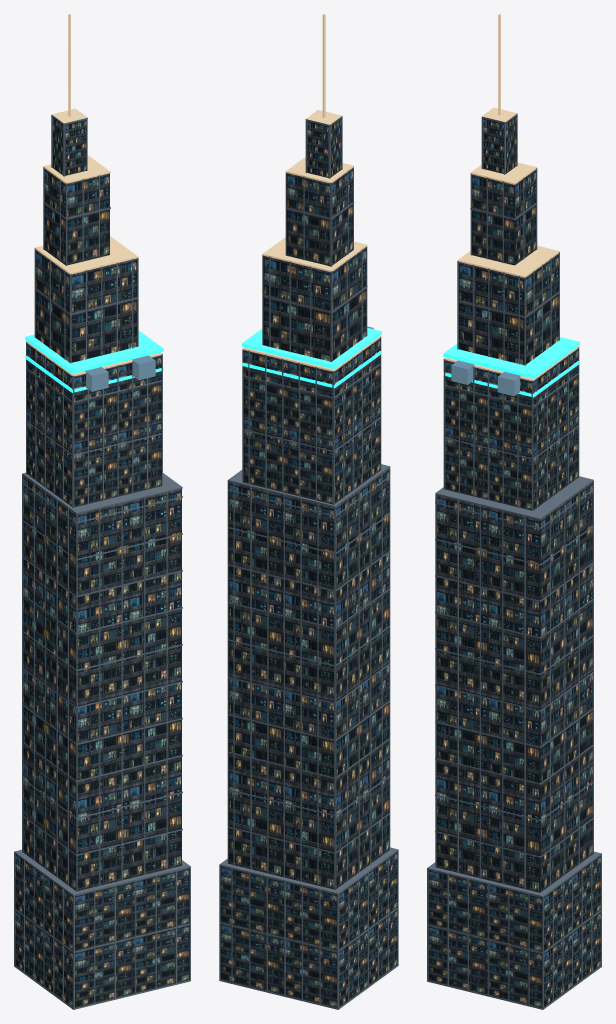
File: one-vanderbilt.glb
The picture shows the model from 3 angles, left to right: view 1: azimuth 30°, elevation 25°; view 2: azimuth 150°, elevation 25°; view 3: azimuth 330°, elevation 25°; orthographic projection. The views are drawn at different scales.
Parts seen in each view (by area): view 1: Facade_atlas_2, Brushed aluminum, Champagne crown light, Cyan architectural light, Cool occupied interiors; view 2: Facade_atlas_2, Brushed aluminum, Champagne crown light, Cyan architectural light; view 3: Facade_atlas_2, Brushed aluminum, Champagne crown light, Cyan architectural light, Cool occupied interiors, Roof membrane and mechanical equipment.
Part boxes in pixels (x1=…): Facade_atlas_2: x1=15, y1=117, x2=189, y2=1007; Brushed aluminum: x1=14, y1=114, x2=190, y2=1009; Champagne crown light: x1=26, y1=14, x2=162, y2=376; Cyan architectural light: x1=25, y1=330, x2=163, y2=392; Cool occupied interiors: x1=85, y1=355, x2=155, y2=391; Facade_atlas_2: x1=220, y1=118, x2=397, y2=1007; Brushed aluminum: x1=219, y1=116, x2=398, y2=1009; Champagne crown light: x1=242, y1=14, x2=381, y2=371; Cyan architectural light: x1=242, y1=328, x2=381, y2=388; Facade_atlas_2: x1=428, y1=116, x2=600, y2=1007; Brushed aluminum: x1=427, y1=113, x2=601, y2=1009; Champagne crown light: x1=444, y1=14, x2=578, y2=380; Cyan architectural light: x1=443, y1=337, x2=579, y2=397; Cool occupied interiors: x1=451, y1=360, x2=520, y2=396; Roof membrane and mechanical equipment: x1=514, y1=185, x2=540, y2=892.
Bounding box in the file's own units: 3.25 × 25.32 × 2.86.
6 materials, 1 textured.
